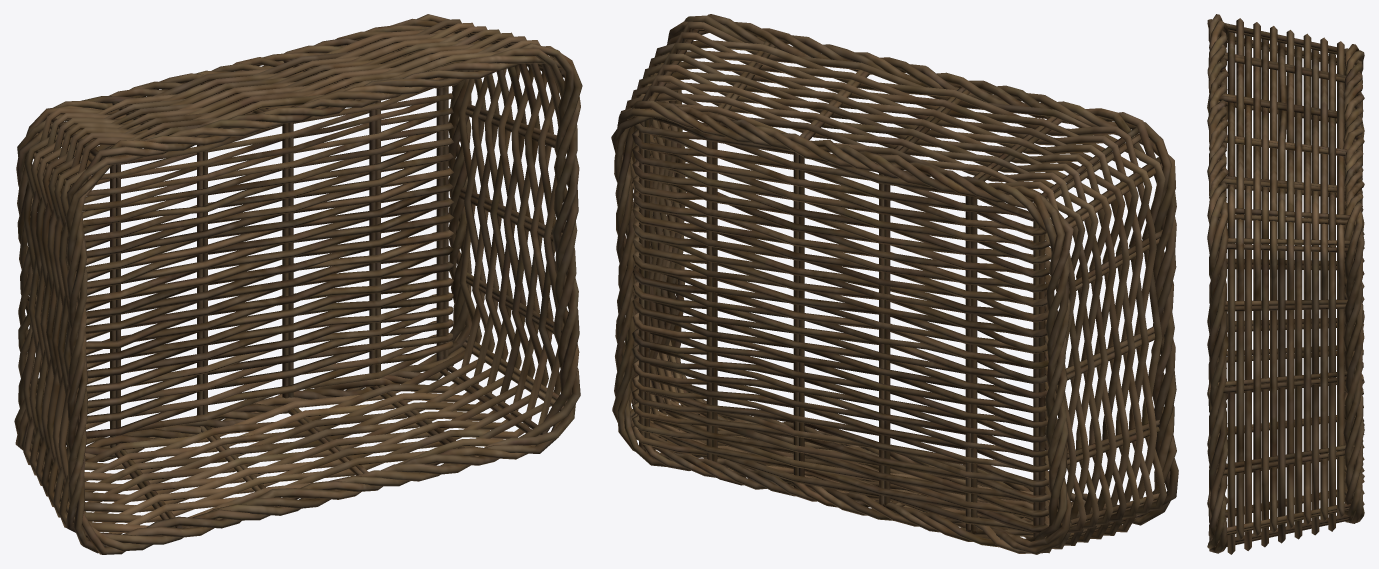
The model's file is basket.glb.
3 renders of one model, left to right at view 1: azimuth 30°, elevation 25°; view 2: azimuth 150°, elevation 25°; view 3: azimuth 270°, elevation 25°, orthographic. The views are drawn at different scales.
Visible parts, largest first — view 1: wicker_basket_01; view 2: wicker_basket_01; view 3: wicker_basket_01.
Part boxes in pixels (x1,y1,x2,y2): wicker_basket_01: (14, 14, 582, 554); wicker_basket_01: (611, 14, 1178, 554); wicker_basket_01: (1207, 14, 1364, 554).
Bounding box in the file's own units: 0.3832 × 0.295 × 0.1174.
Materials: 1 (1 with a texture image).
